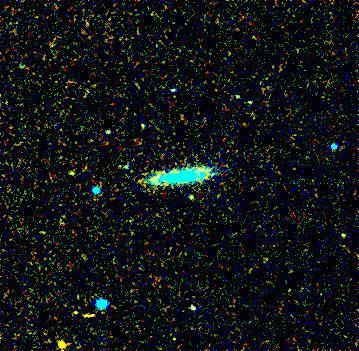star: (48, 329, 78, 351)
